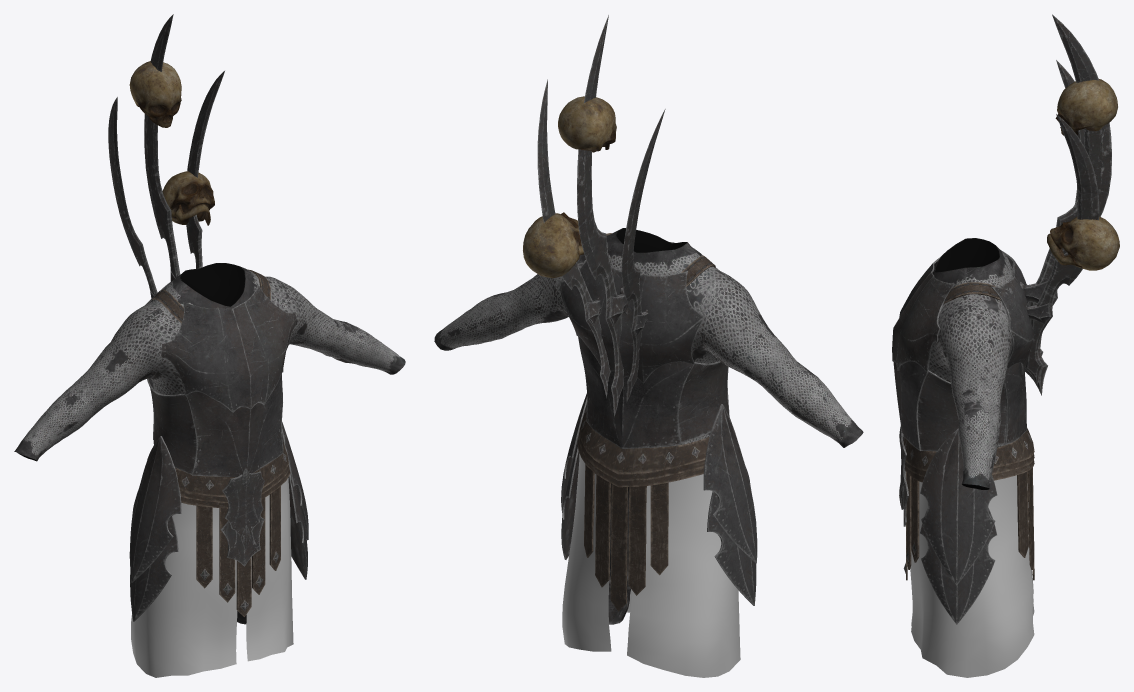
Rendered from sk_uruk_mordor_chainmail_captain_d2.fbx.
3 views of the same model, side by side, from view 1: azimuth 30°, elevation 25°; view 2: azimuth 150°, elevation 25°; view 3: azimuth 270°, elevation 25° (orthographic). The views are drawn at different scales.
Parts seen in each view (by area): view 1: sk_uruk_mordor_chainmail_captain_d2.5, sk_uruk_mordor_chainmail_captain_d2.1, sk_uruk_mordor_chainmail_captain_d2.0, sk_uruk_mordor_chainmail_captain_d2.2, sk_uruk_mordor_chainmail_captain_d2.4, sk_uruk_mordor_chainmail_captain_d2.3; view 2: sk_uruk_mordor_chainmail_captain_d2.1, sk_uruk_mordor_chainmail_captain_d2.2, sk_uruk_mordor_chainmail_captain_d2.0, sk_uruk_mordor_chainmail_captain_d2.5, sk_uruk_mordor_chainmail_captain_d2.4; view 3: sk_uruk_mordor_chainmail_captain_d2.1, sk_uruk_mordor_chainmail_captain_d2.0, sk_uruk_mordor_chainmail_captain_d2.2, sk_uruk_mordor_chainmail_captain_d2.5, sk_uruk_mordor_chainmail_captain_d2.4, sk_uruk_mordor_chainmail_captain_d2.3.
Boxes of the visible parts, x1,y1,x2,y2 form: sk_uruk_mordor_chainmail_captain_d2.5: (145,282,297,477); sk_uruk_mordor_chainmail_captain_d2.1: (108,14,290,616); sk_uruk_mordor_chainmail_captain_d2.0: (14,263,405,624); sk_uruk_mordor_chainmail_captain_d2.2: (131,478,293,677); sk_uruk_mordor_chainmail_captain_d2.4: (129,422,308,621); sk_uruk_mordor_chainmail_captain_d2.3: (220,468,264,566); sk_uruk_mordor_chainmail_captain_d2.1: (523,15,715,611); sk_uruk_mordor_chainmail_captain_d2.2: (562,453,740,677); sk_uruk_mordor_chainmail_captain_d2.0: (434,228,863,624); sk_uruk_mordor_chainmail_captain_d2.5: (559,242,729,448); sk_uruk_mordor_chainmail_captain_d2.4: (561,393,757,605); sk_uruk_mordor_chainmail_captain_d2.1: (903,14,1119,580); sk_uruk_mordor_chainmail_captain_d2.0: (928,238,1013,489); sk_uruk_mordor_chainmail_captain_d2.2: (910,475,1034,677); sk_uruk_mordor_chainmail_captain_d2.5: (892,250,1034,451); sk_uruk_mordor_chainmail_captain_d2.4: (920,428,997,624); sk_uruk_mordor_chainmail_captain_d2.3: (899,425,908,526).
Bounding box in the file's own units: 1.37 × 0.6833 × 2.08.
